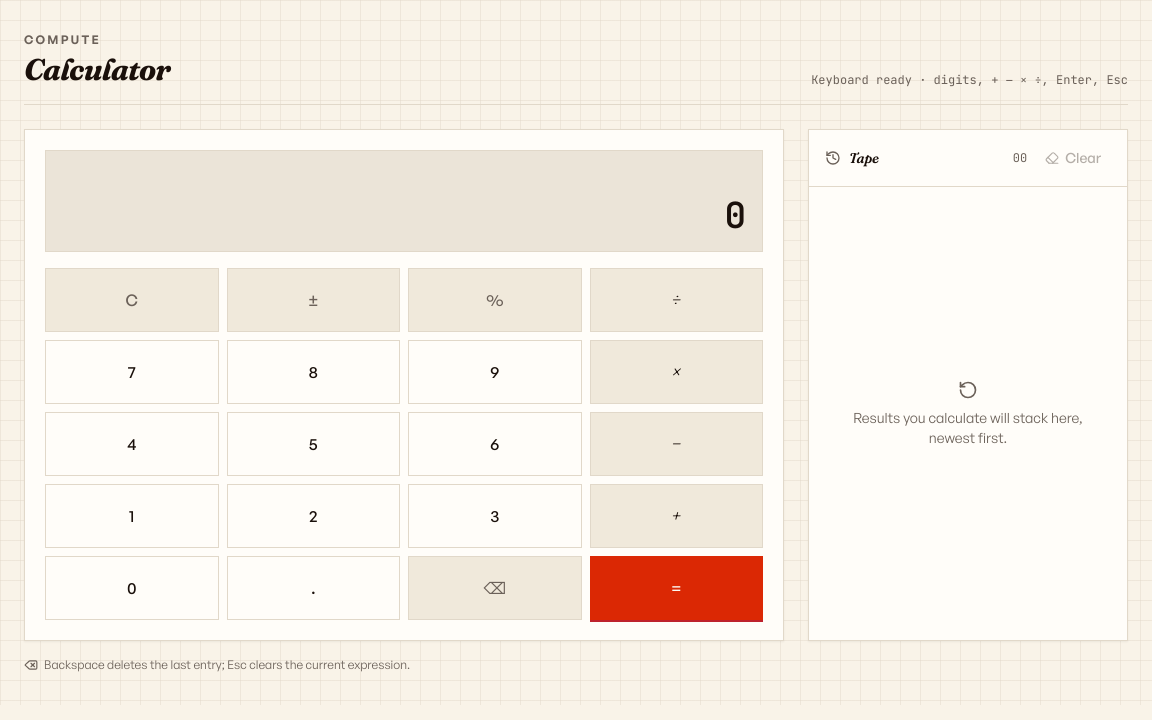
Scenario: CalculatorPage › shows an inline error for division by zero
The width and height of the screenshot is (1152, 720).
Click the button "8". click: [313, 372]
box: x1=226 y1=340 x2=400 y2=404
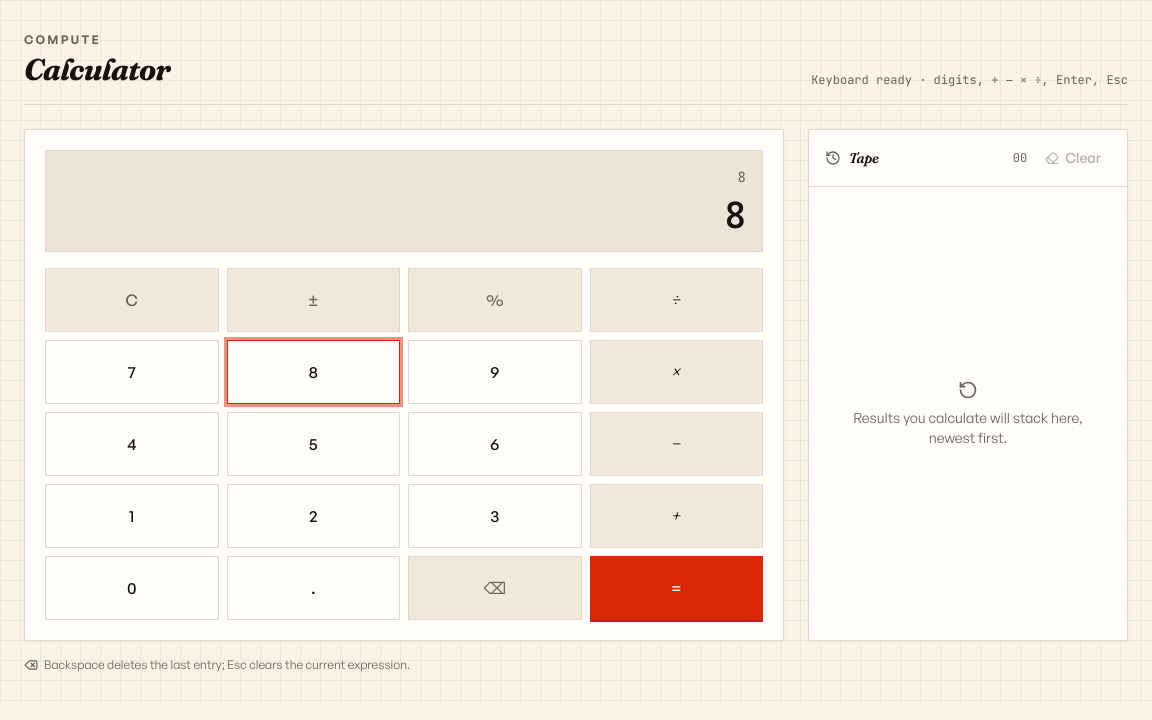
Click the button named "Divide". click: [676, 300]
box: x1=590 y1=268 x2=763 y2=332
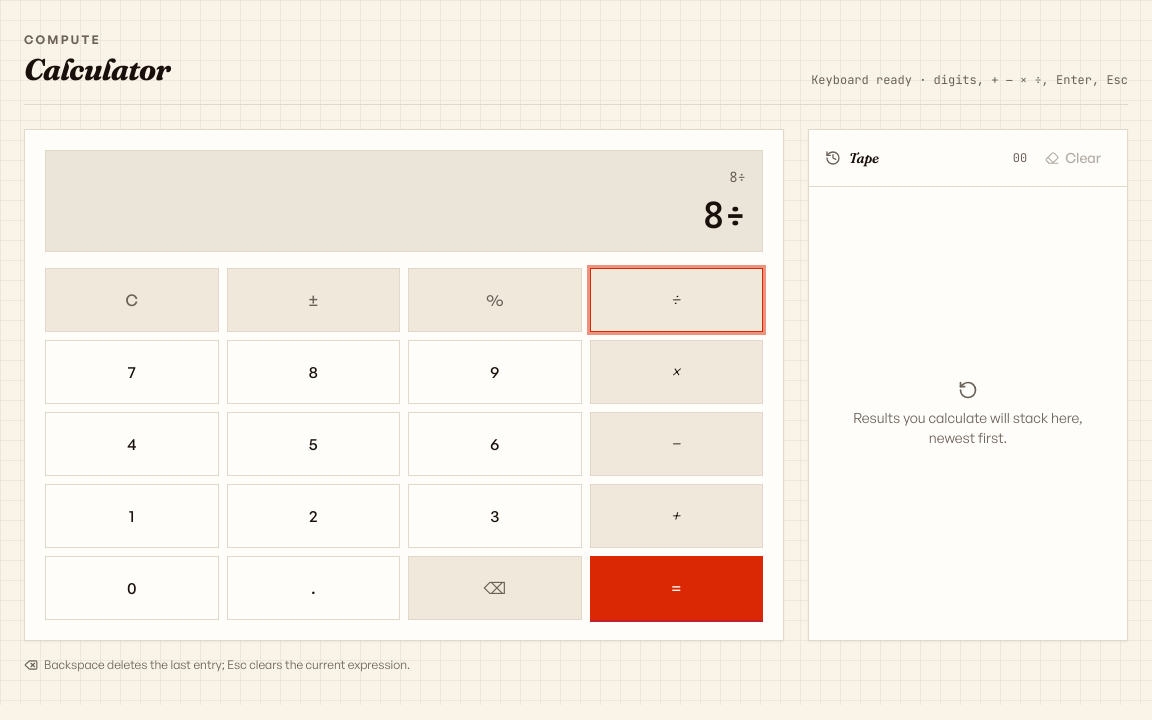
Click the button "0". click: [132, 588]
box: x1=45 y1=556 x2=218 y2=620
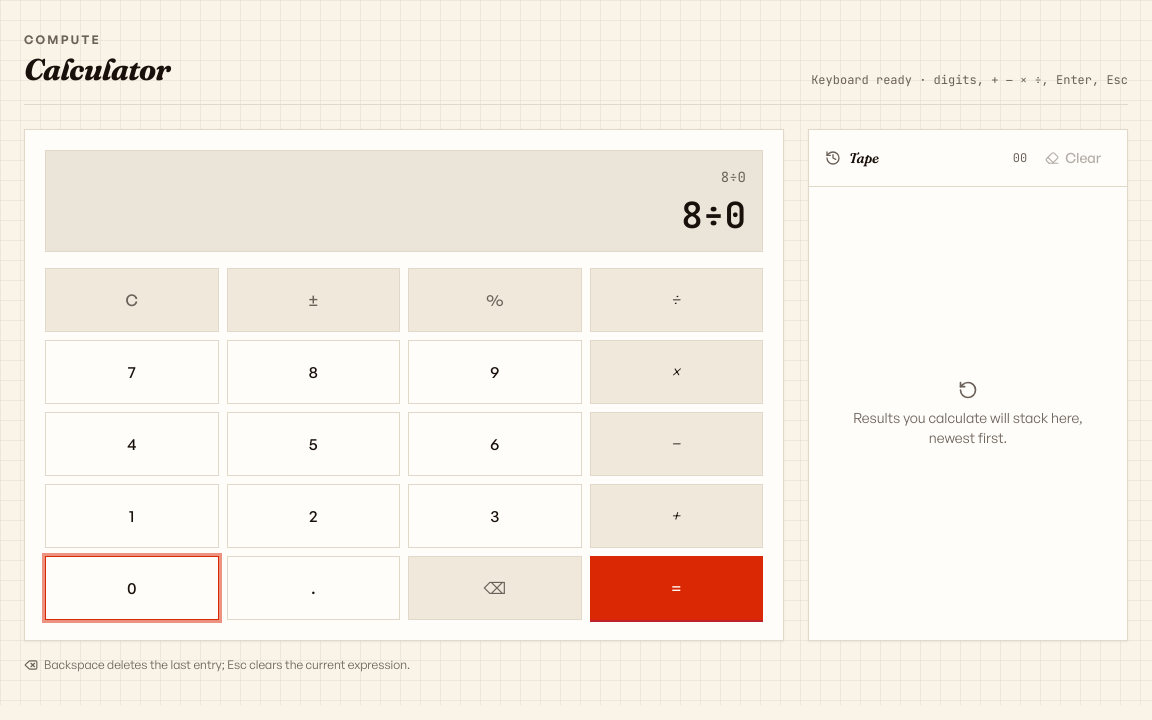
Click the button named "Equals". click: [676, 588]
box: x1=590 y1=556 x2=763 y2=620
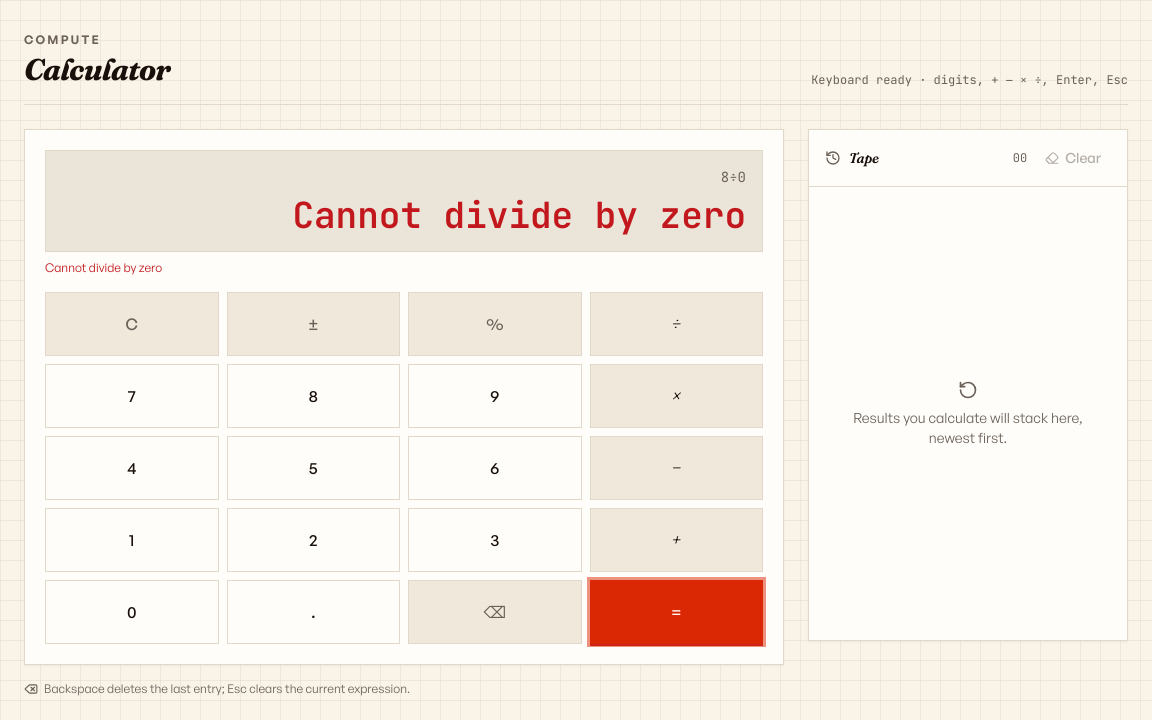
Result: the message shows "divide by zero" at x1=45 y1=260 x2=162 y2=275
